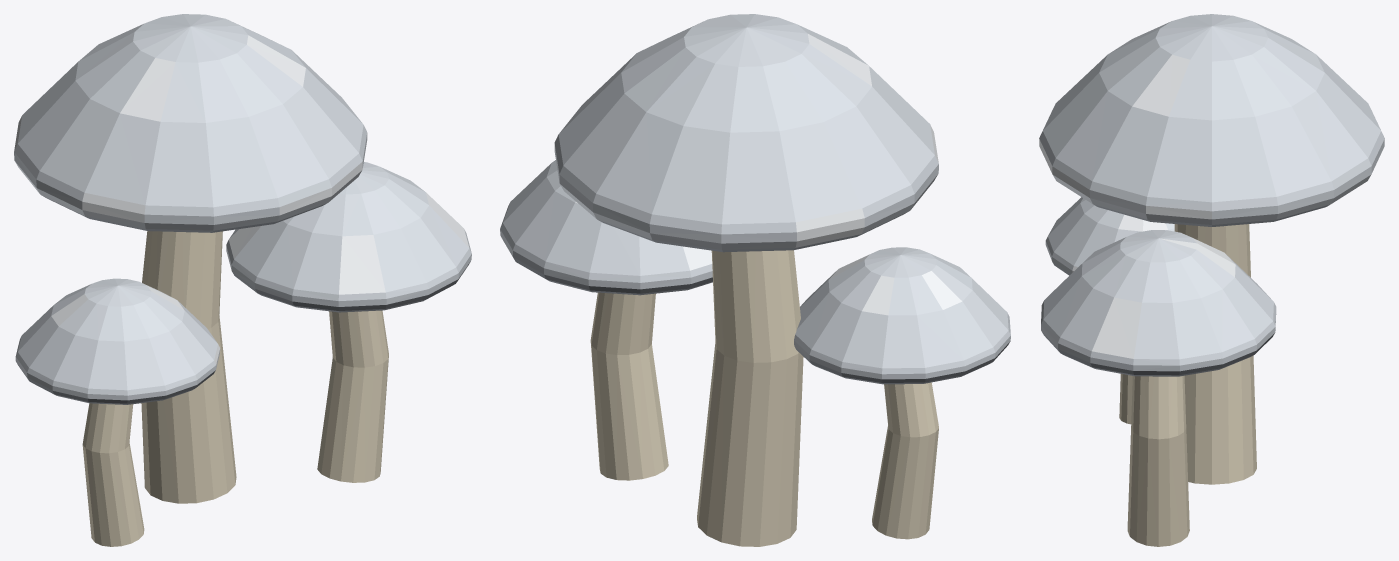
File: GlowshroomFar.obj
3 views of the same model, side by side, from view 1: azimuth 30°, elevation 25°; view 2: azimuth 150°, elevation 25°; view 3: azimuth 270°, elevation 25° (orthographic). The views are drawn at different scales.
Size of the model in its own units: 3.63 by 3.69 by 2.59.
